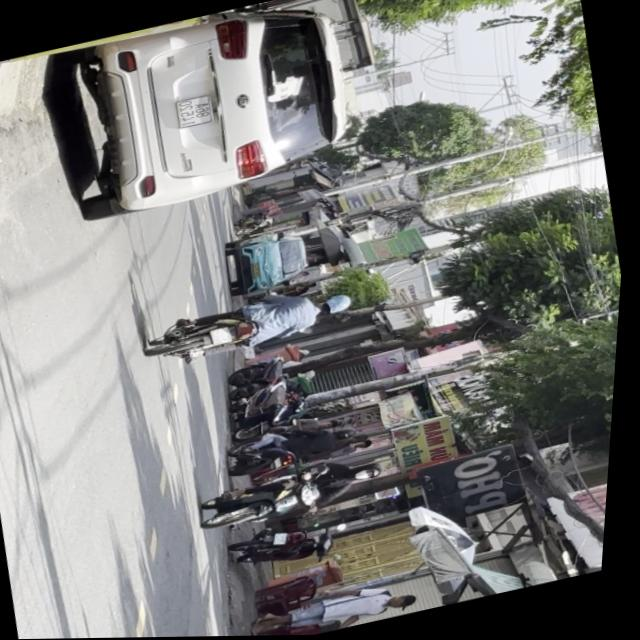helmet: (351, 460, 393, 485), (321, 292, 359, 318)
licenseplate: (146, 277, 365, 374), (199, 450, 399, 538)
nohelmet: (213, 326, 237, 346)
